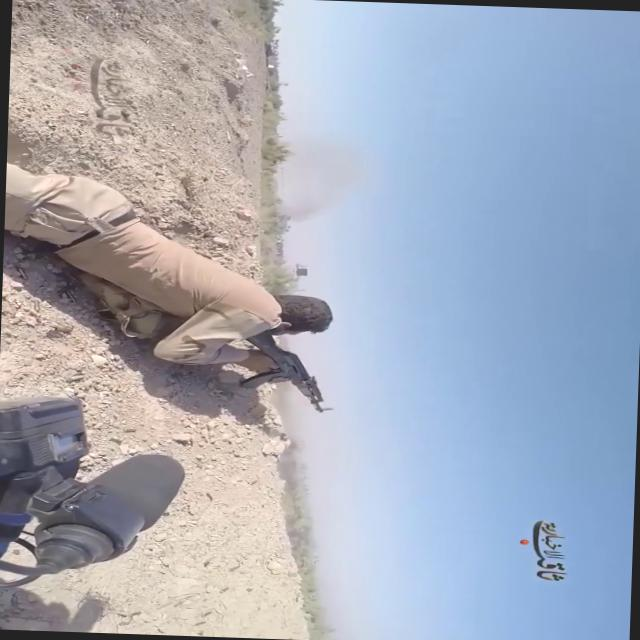long weapon: (211, 322, 336, 422)
